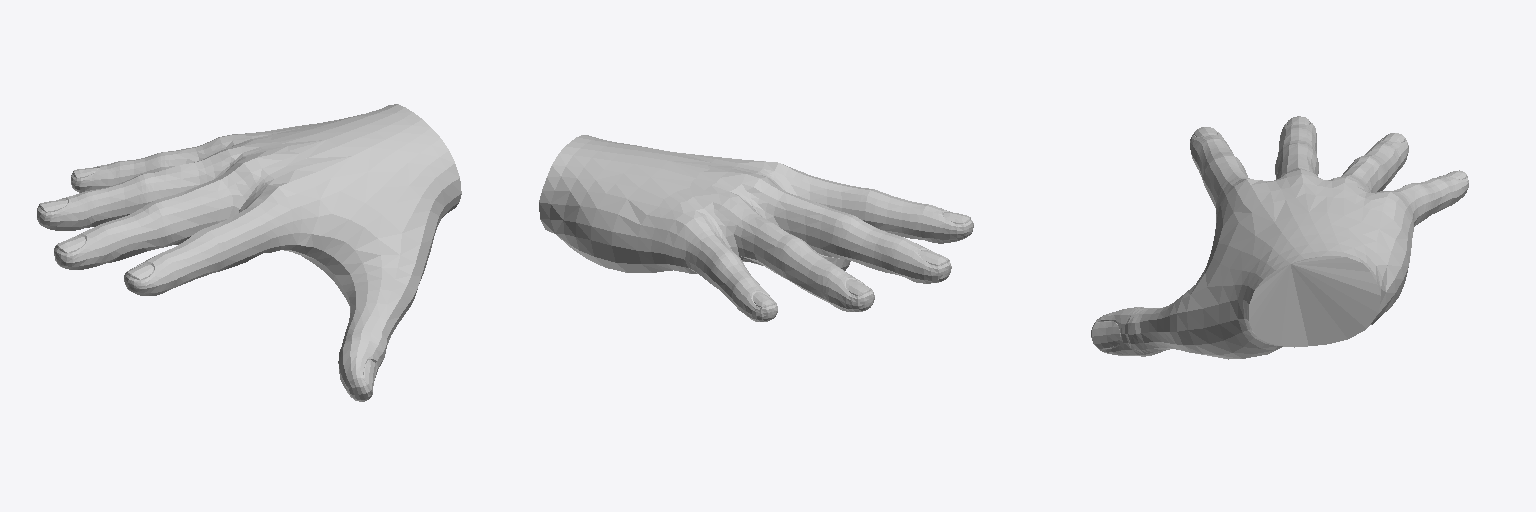
File: hand_r.obj
3 views of the same model, side by side, from view 1: azimuth 30°, elevation 25°; view 2: azimuth 150°, elevation 25°; view 3: azimuth 270°, elevation 25° (orthographic).
Visible parts, largest first — view 1: hand; view 2: hand; view 3: hand.
Boxes of the visible parts, <box> form: hand: <box>37,104,461,401</box>; hand: <box>539,135,973,321</box>; hand: <box>1091,116,1468,359</box>.
Size of the model in its own units: 19.95 by 8.77 by 17.21.